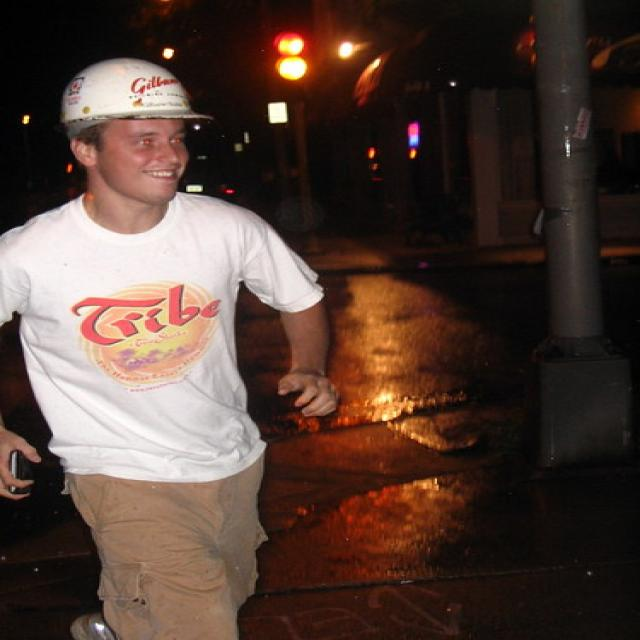Safety-Helmet: (48, 52, 213, 134)
